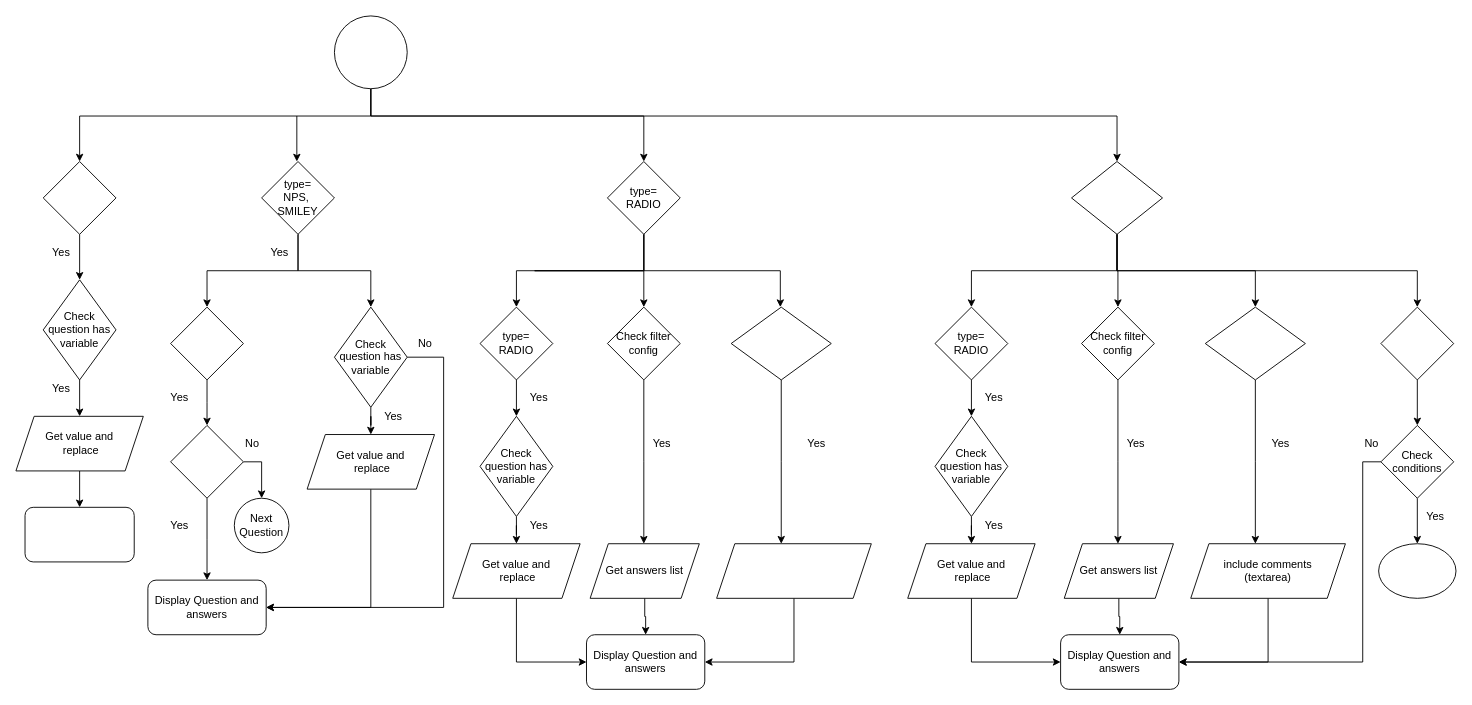
This 1472x705 diagram has some shape labels left out. Each missing label, with the centre of its shape:
"Check conditions match" goes at point 206,461.
"Check others answer key" goes at point 1254,343.
"Check register config" goes at point 780,343.
"Check skipLogic" goes at point 206,343.
"Check terminate config" goes at point 1417,343.
"Display Label" goes at point 79,534.
"Go to end of the survey page" goes at point 1417,570.
"pages>1 Multi-page" goes at point 370,52.
"Store variable name with answer selected" goes at point 793,570.
"type = LABEL" goes at point 79,197.
"type= CHECKBOX" goes at point 1117,197.
